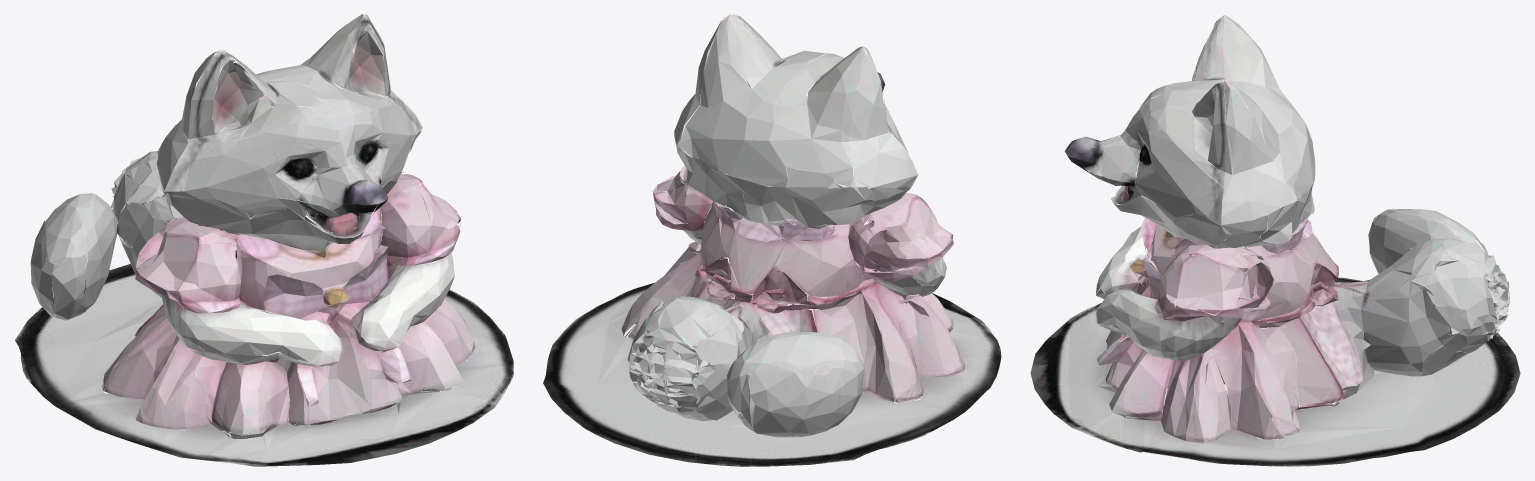
Rendered from char_jujuya.glb.
3 renders of one model, left to right at view 1: azimuth 30°, elevation 25°; view 2: azimuth 150°, elevation 25°; view 3: azimuth 270°, elevation 25°, orthographic. The views are drawn at different scales.
Parts seen in each view (by area): view 1: char_jujuya_model; view 2: char_jujuya_model; view 3: char_jujuya_model.
Boxes of the visible parts, <box> form: char_jujuya_model: <box>15,14,513,466</box>; char_jujuya_model: <box>543,14,1001,466</box>; char_jujuya_model: <box>1030,15,1520,466</box>.
Size of the model in its own units: 1.09 by 0.9444 by 1.17.
Materials: 1 (1 with a texture image).
